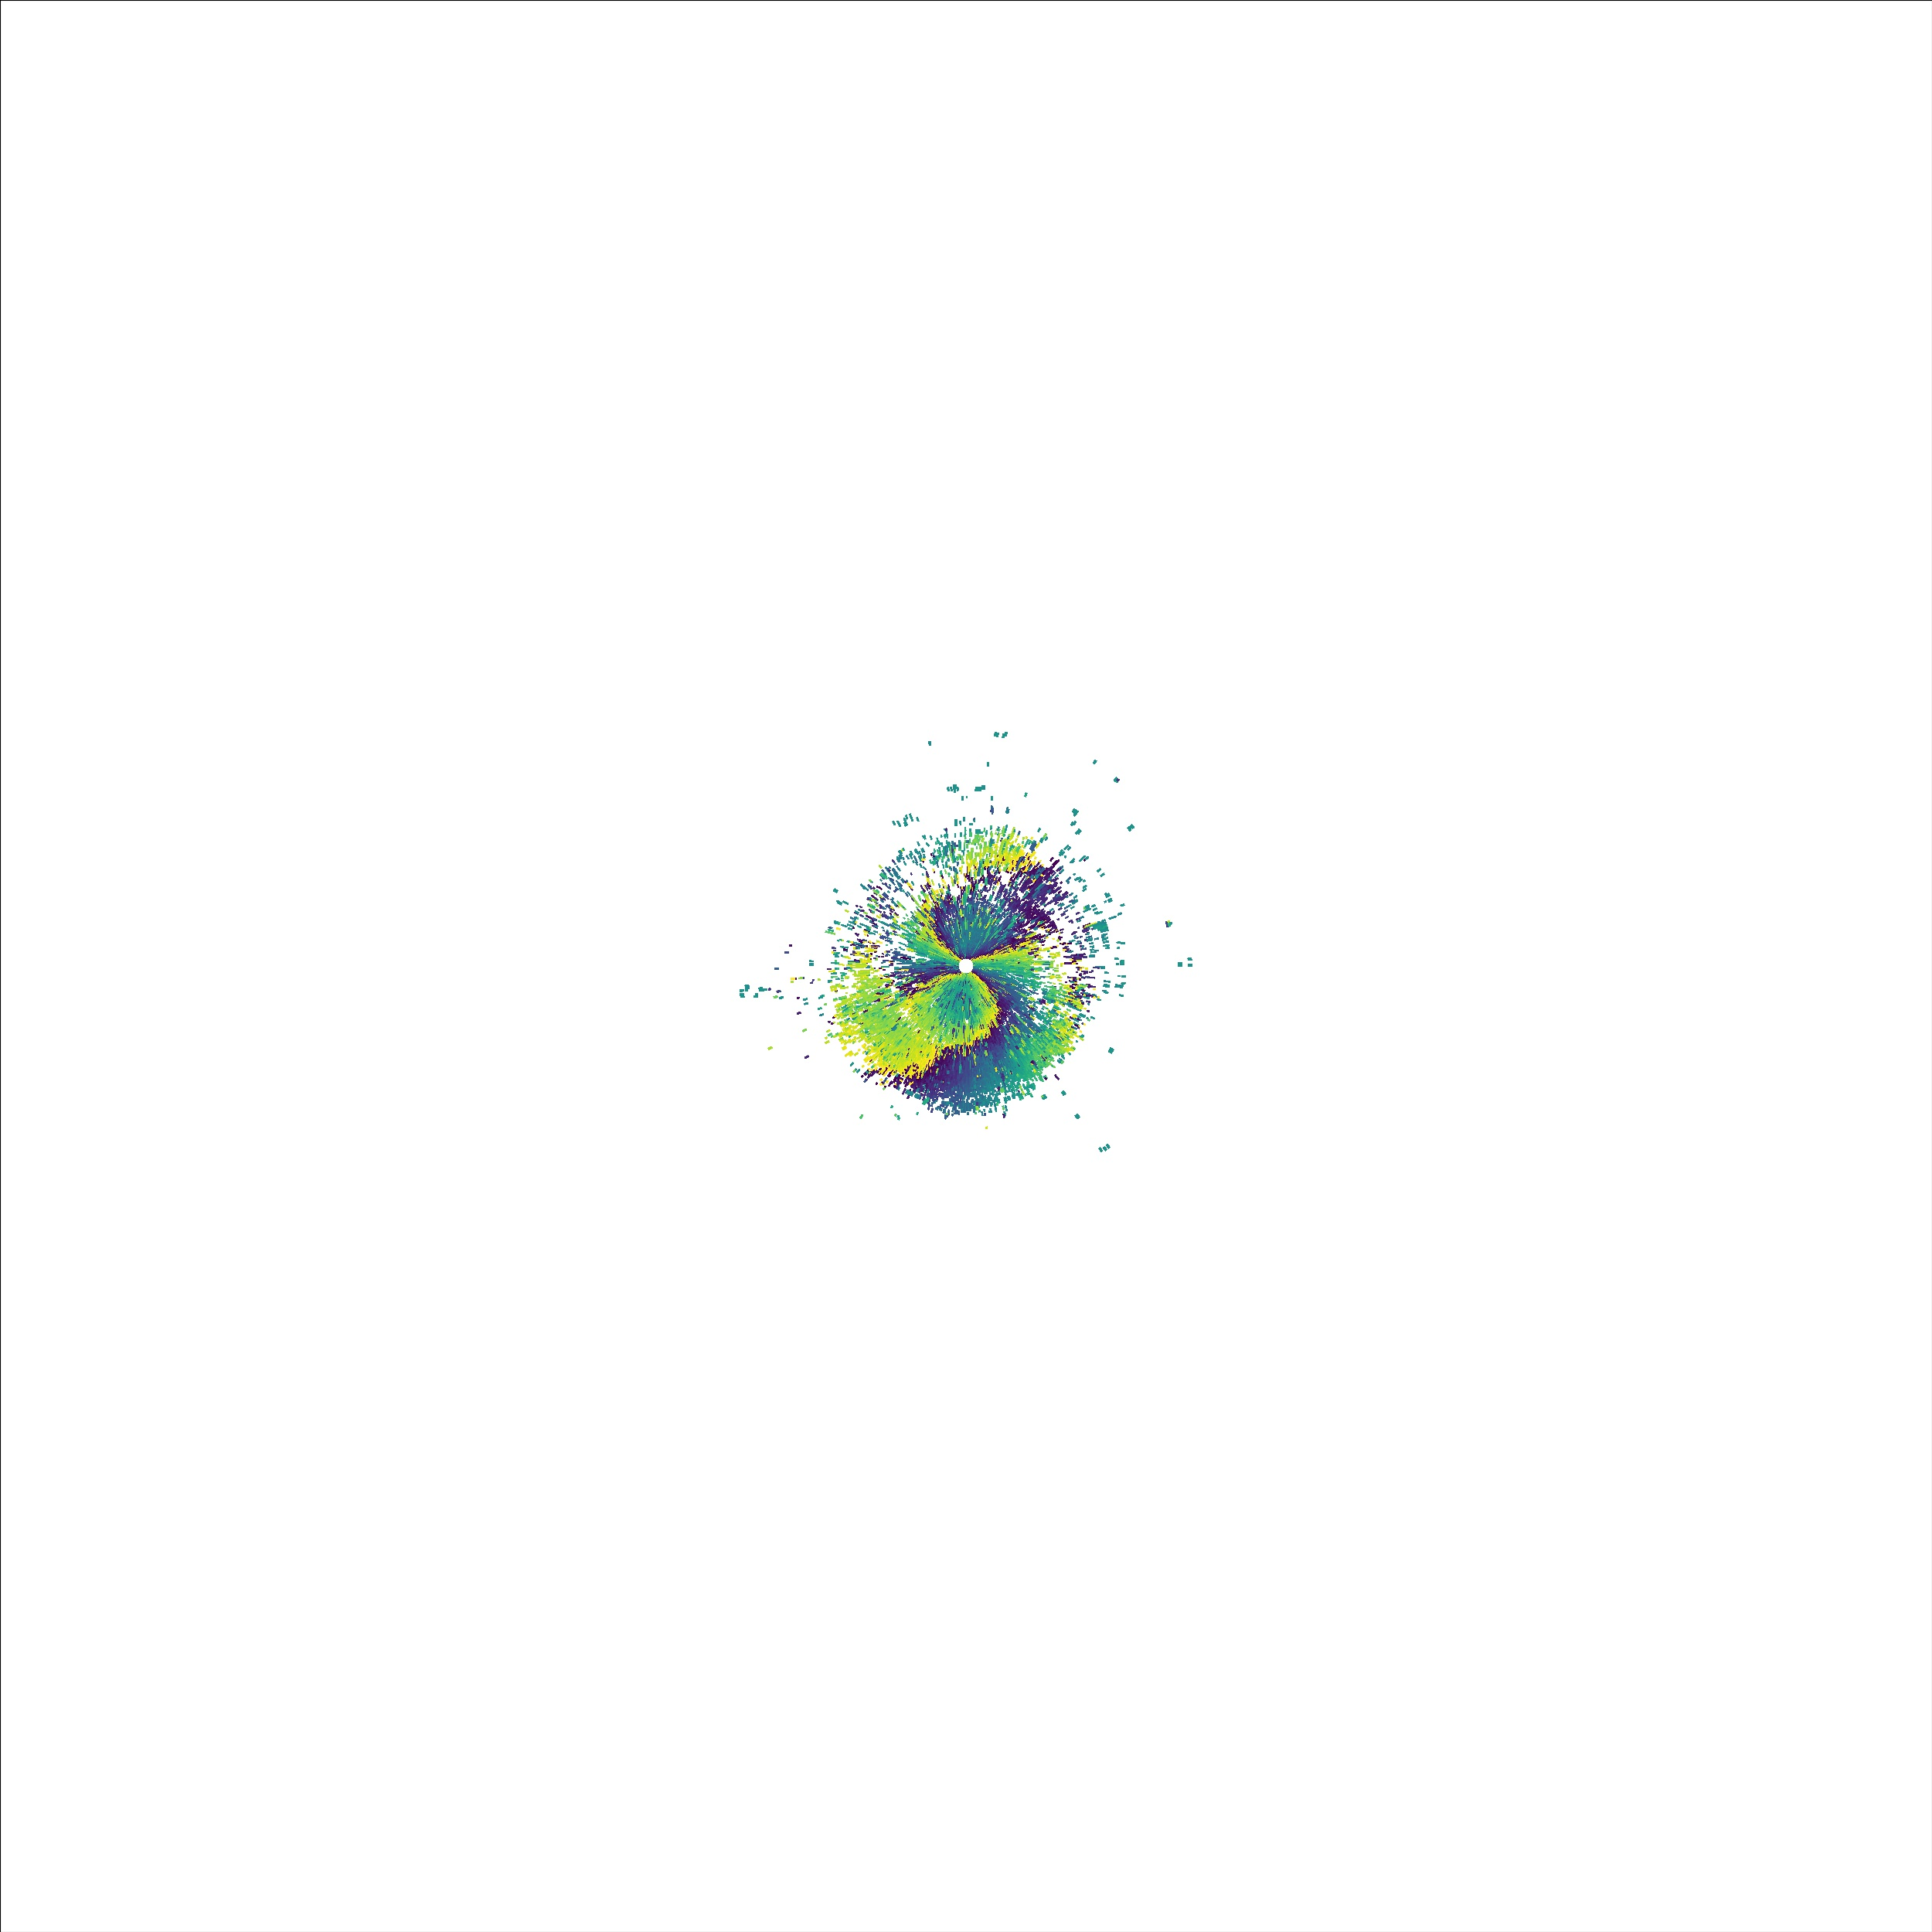fall: (1162, 918, 1178, 931)
